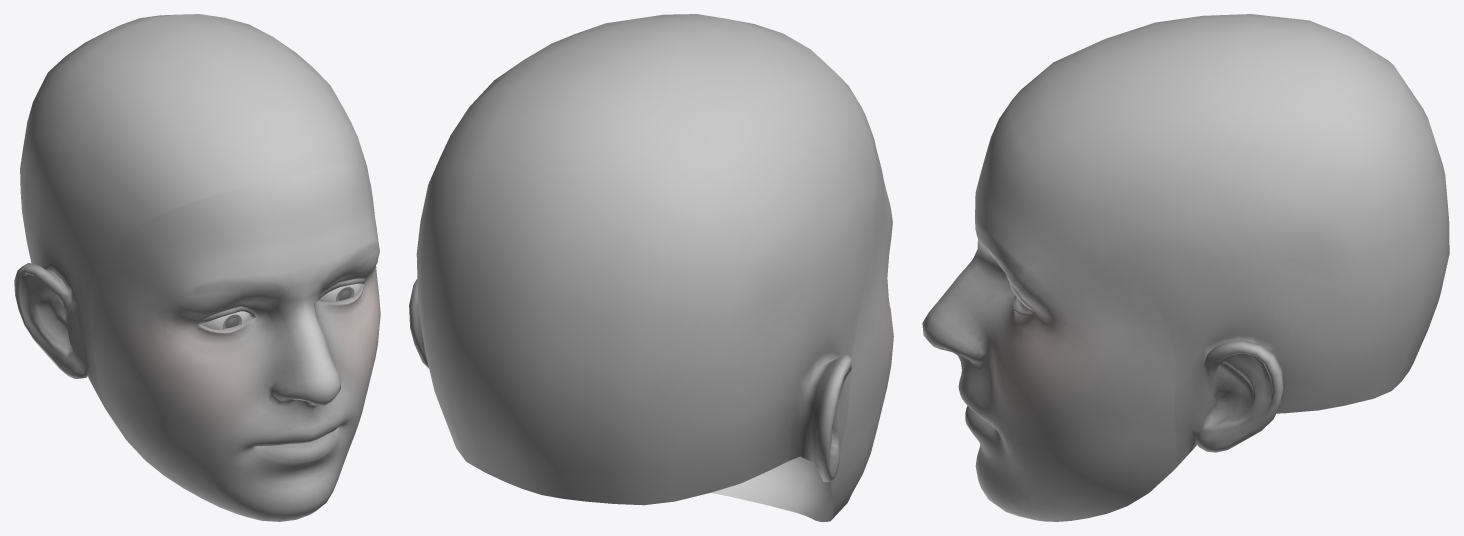
3 renders of one model, left to right at view 1: azimuth 30°, elevation 25°; view 2: azimuth 150°, elevation 25°; view 3: azimuth 270°, elevation 25°, orthographic. The views are drawn at different scales.
Parts seen in each view (by area): view 1: head, eyeLeft, eyeRight; view 2: head; view 3: head.
Boxes of the visible parts, <box> form: head: <box>14,14,380,521</box>; eyeLeft: <box>201,311,250,329</box>; eyeRight: <box>318,283,362,302</box>; head: <box>409,14,893,521</box>; head: <box>922,14,1449,521</box>.
Size of the model in its own units: 19.03 by 23.38 by 23.57.
1 material, 1 textured.
